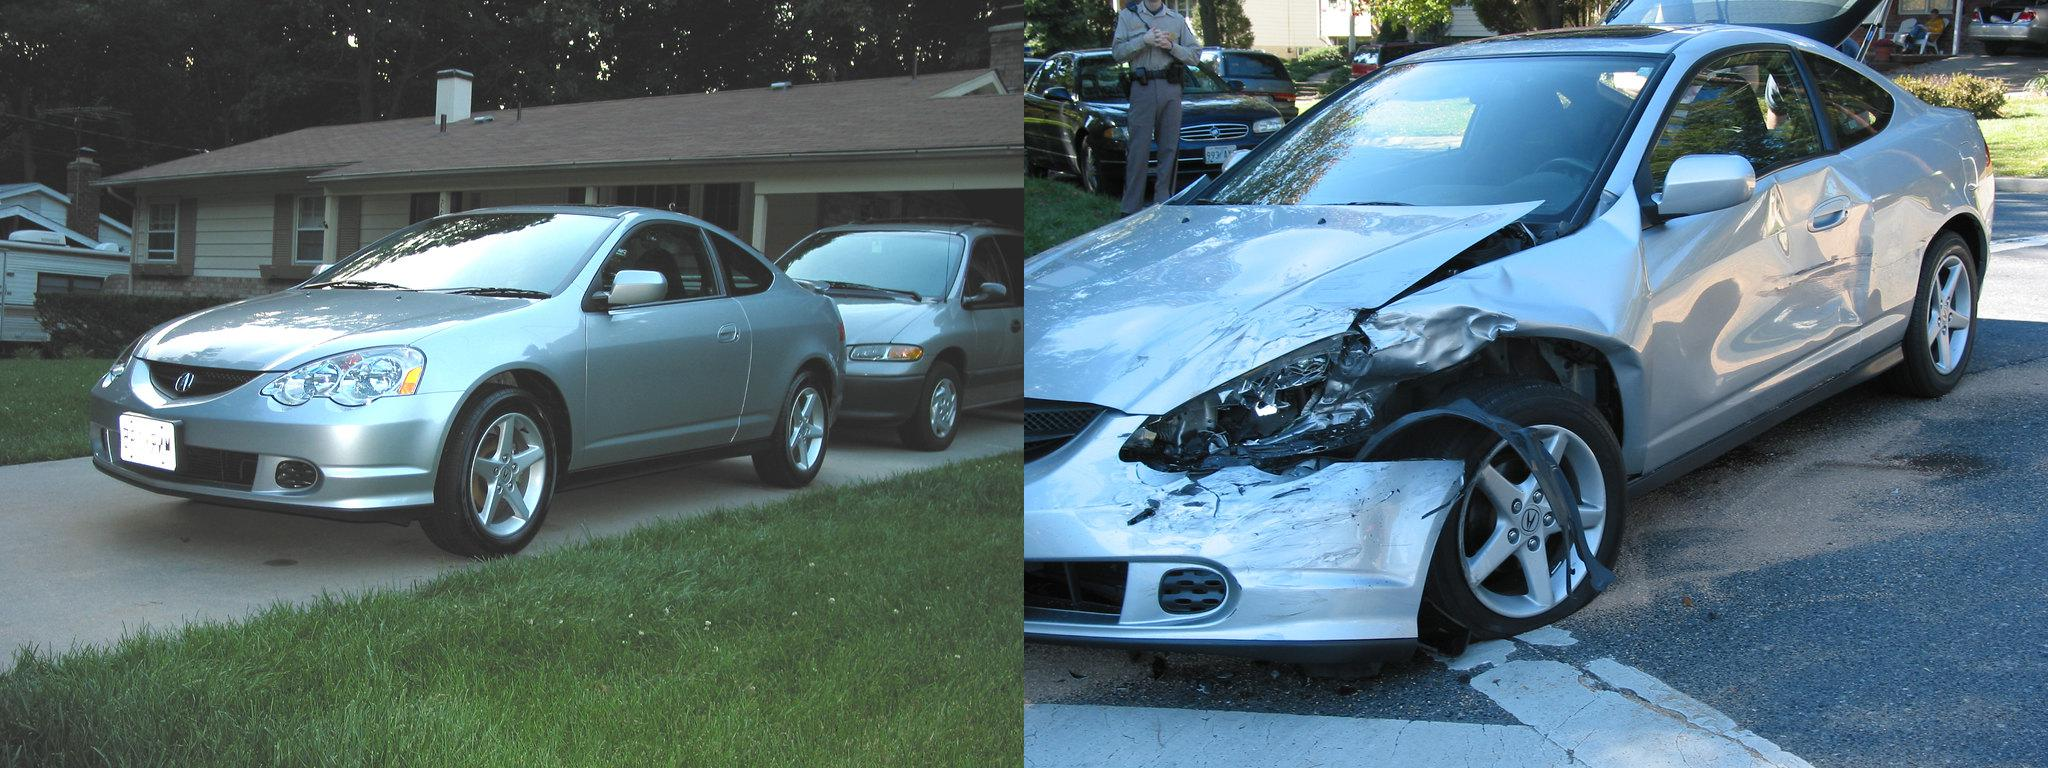Headlight-Damage: (1131, 287, 1422, 509)
bonnet-dent: (1048, 195, 1354, 353)
fender-dent: (1446, 205, 1661, 402)
front-bumper-dent: (1074, 451, 1477, 637)
